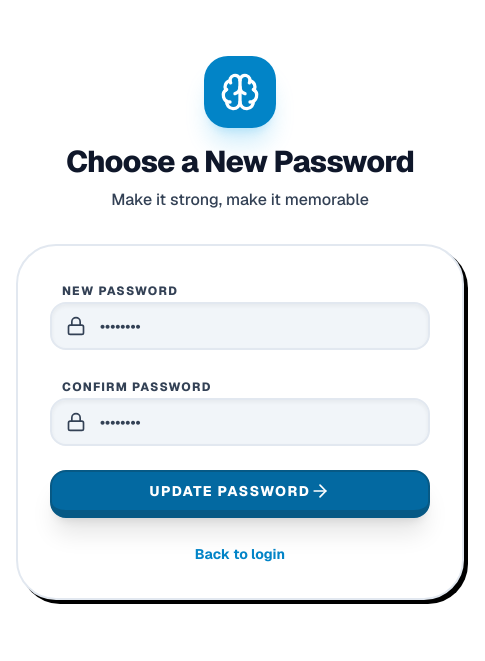
Scenario: ResetPasswordPage › blocks submit when passwords do not match
Type "password123" into the password field labelled "New Password" at (240,326), box top-left (50, 302), bottom-right (430, 350)
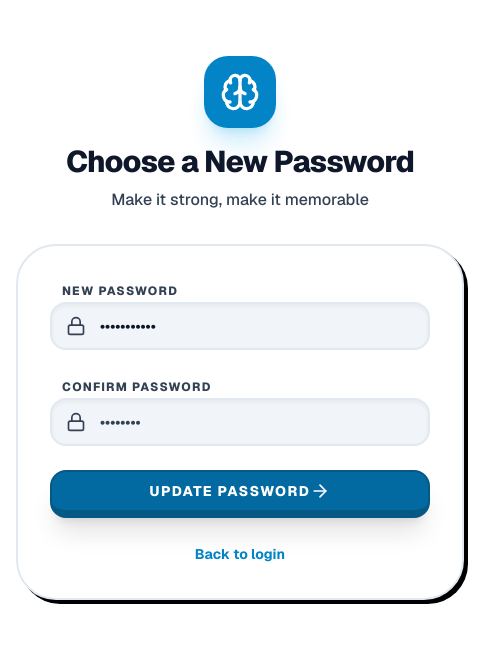
Type "different123" into the password field labelled "Confirm Password" at (240,422), box top-left (50, 398), bottom-right (430, 446)
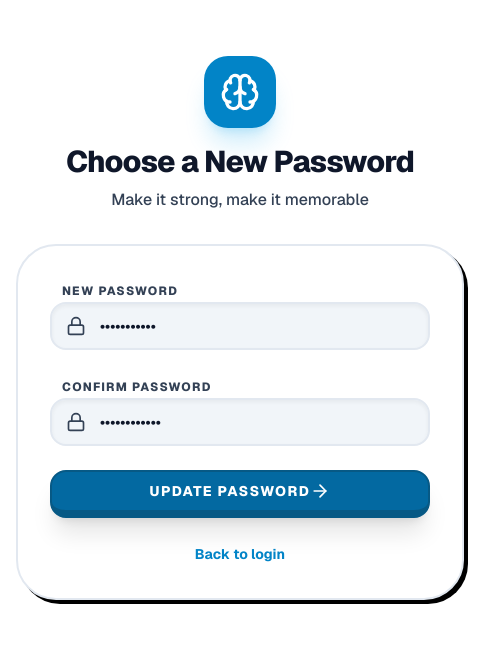
Click the button "Update password" at (240,494), box top-left (50, 470), bottom-right (430, 518)
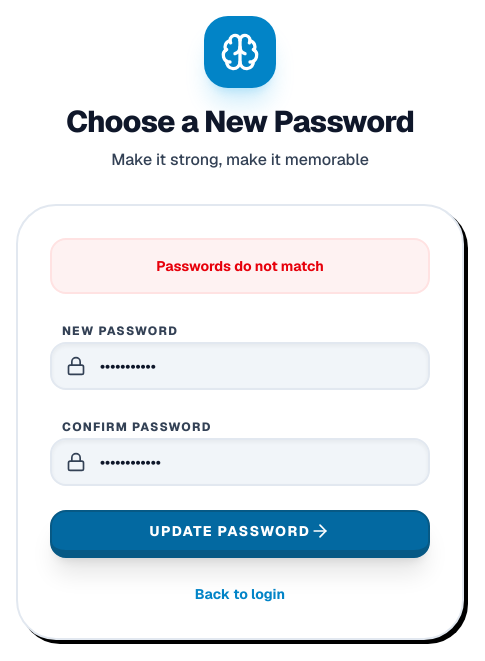
Now the text "Passwords do not match" is shown, box top-left (50, 238), bottom-right (430, 294)
